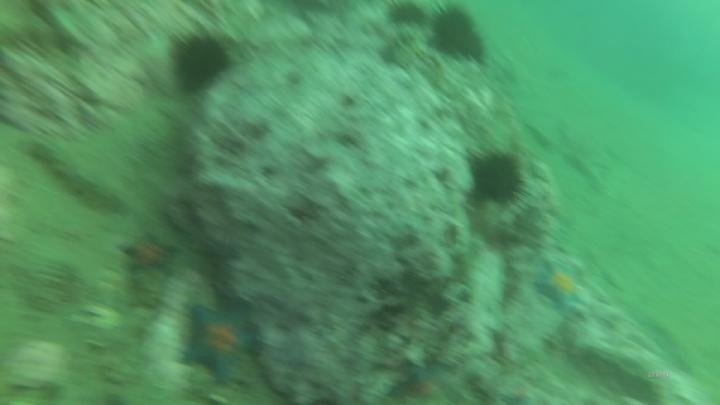echinus: (165, 28, 235, 97), (464, 145, 531, 210), (425, 2, 490, 66), (383, 1, 430, 30)
starfish: (176, 300, 264, 388), (384, 359, 468, 404), (531, 259, 589, 316), (117, 231, 180, 276)
